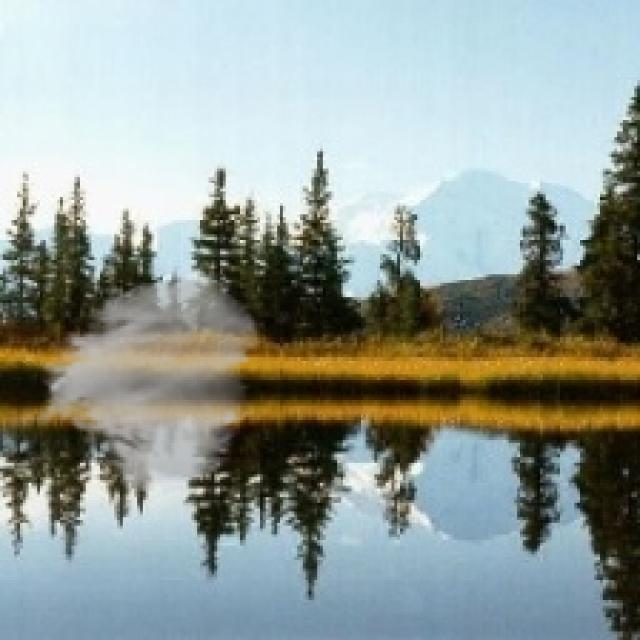Smoke: (31, 272, 263, 497)
